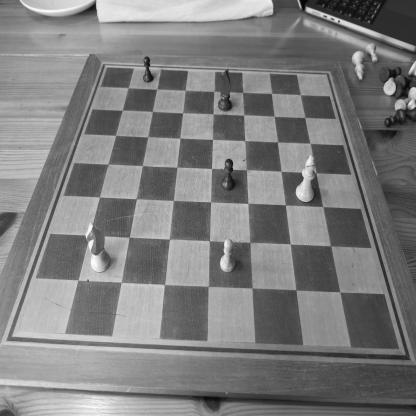black-knight: (218, 68, 232, 112)
black-pawn: (221, 158, 235, 191), (384, 108, 406, 128), (143, 56, 154, 83)
white-bishop: (295, 154, 316, 203), (351, 50, 366, 82)
white-knight: (85, 221, 111, 273)
white-pawn: (220, 238, 236, 274), (366, 42, 380, 64)
